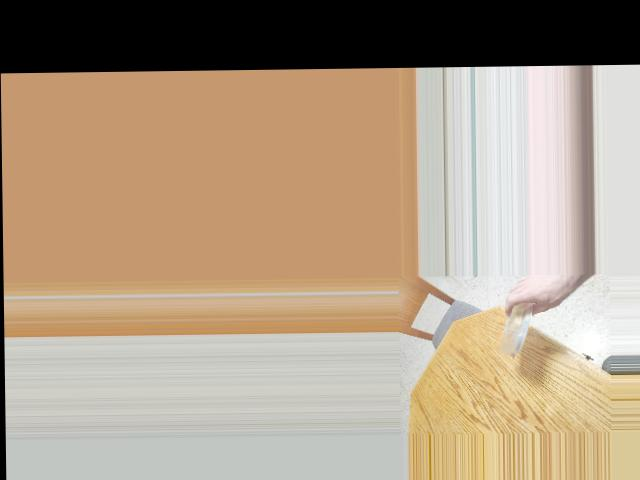cheese: (494, 302, 535, 348)
